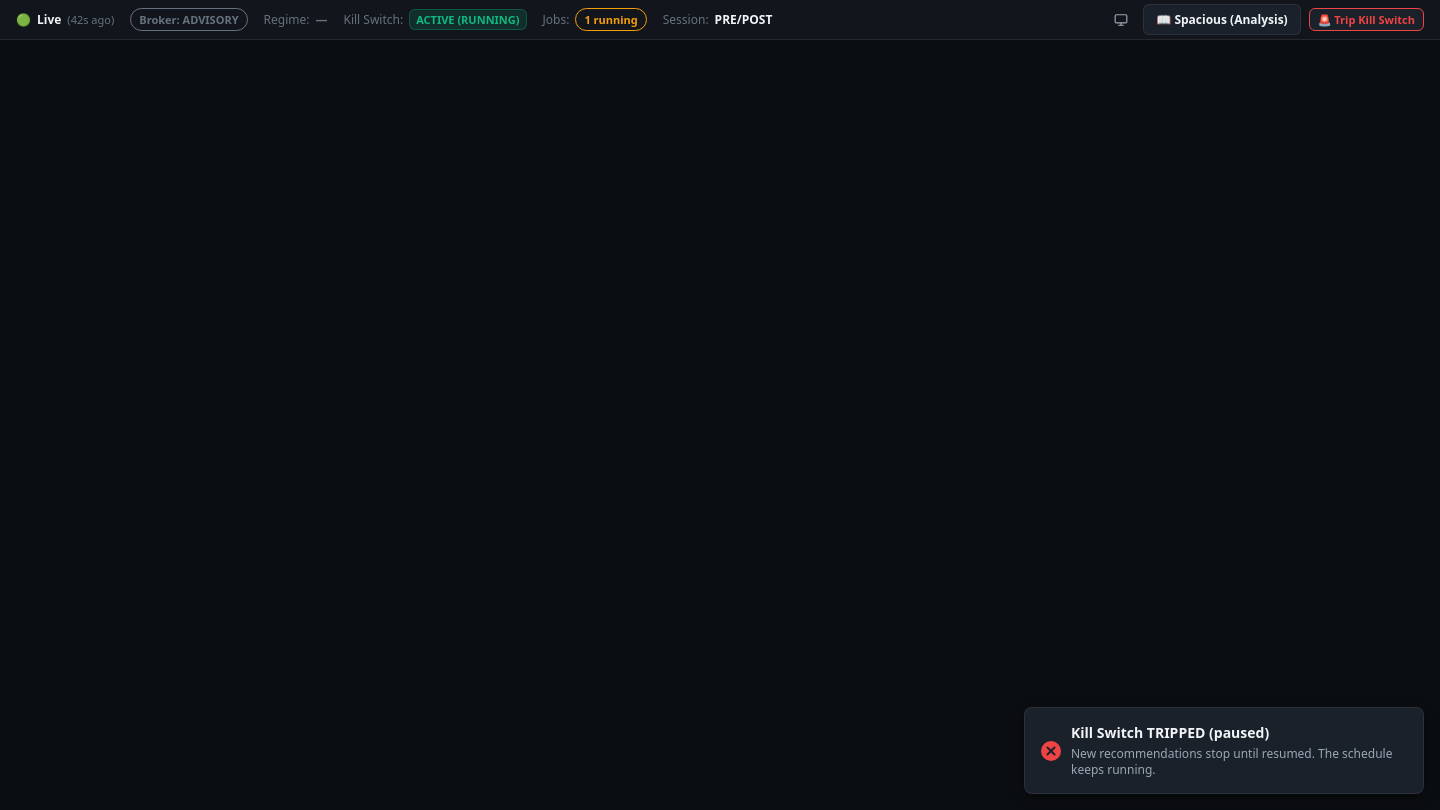
Scenario: TopStatusBar › shows 'N running' and lists the real job in the modal when a job is active
Click the text "1 running": (611, 20) [575, 8, 647, 31]
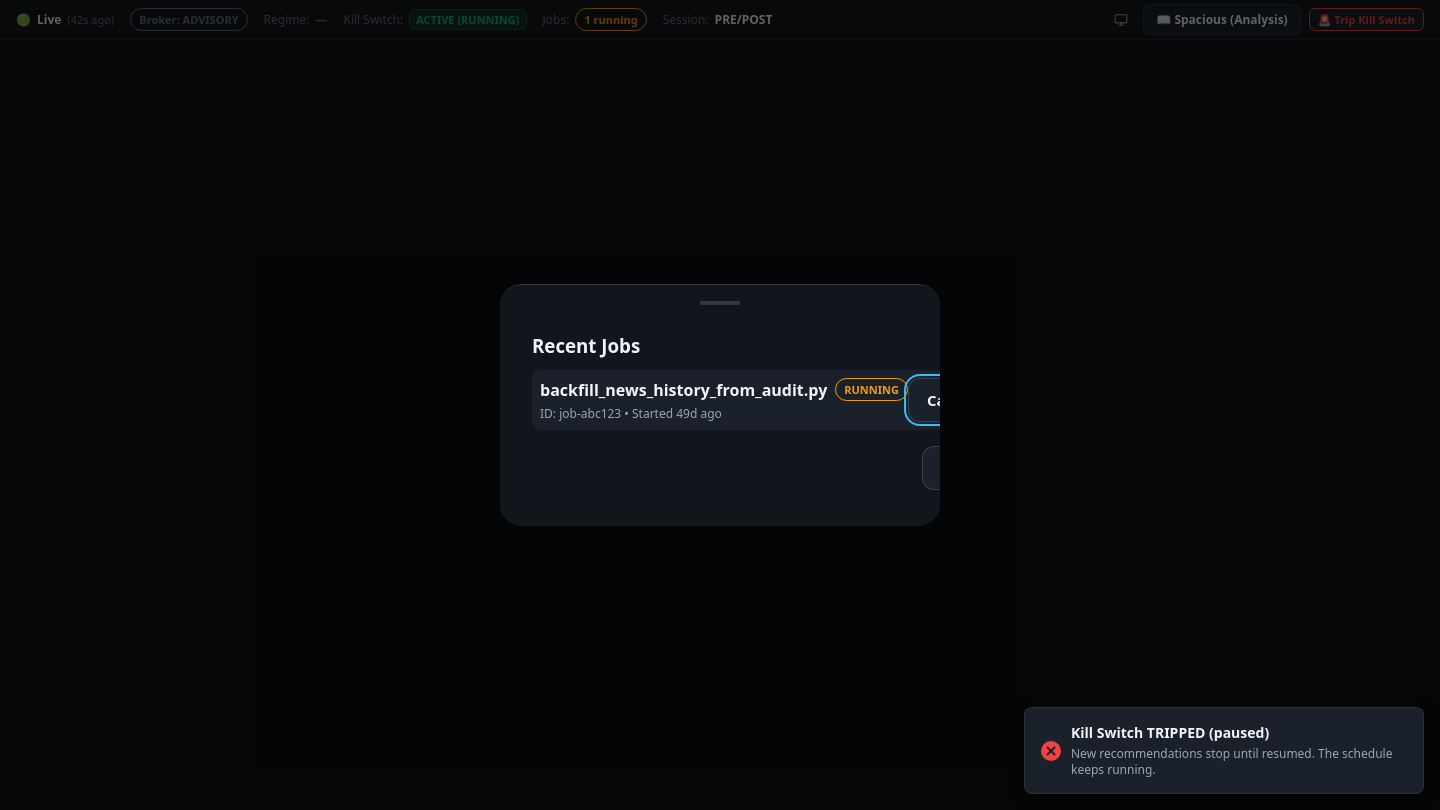
Check: the text "backfill_news_history_from_audit.py" is shown, box [540, 378, 827, 400]
Check: the text "ID: job-abc123 • Started 49d ago" is shown, box [540, 405, 722, 422]
